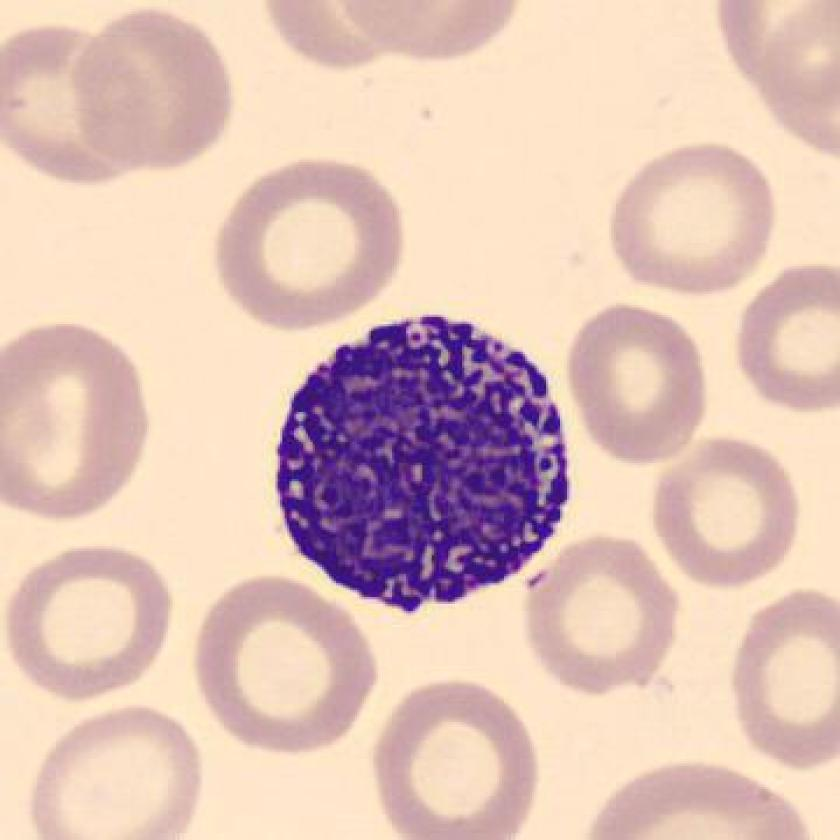basophil: (279, 304, 573, 624)
